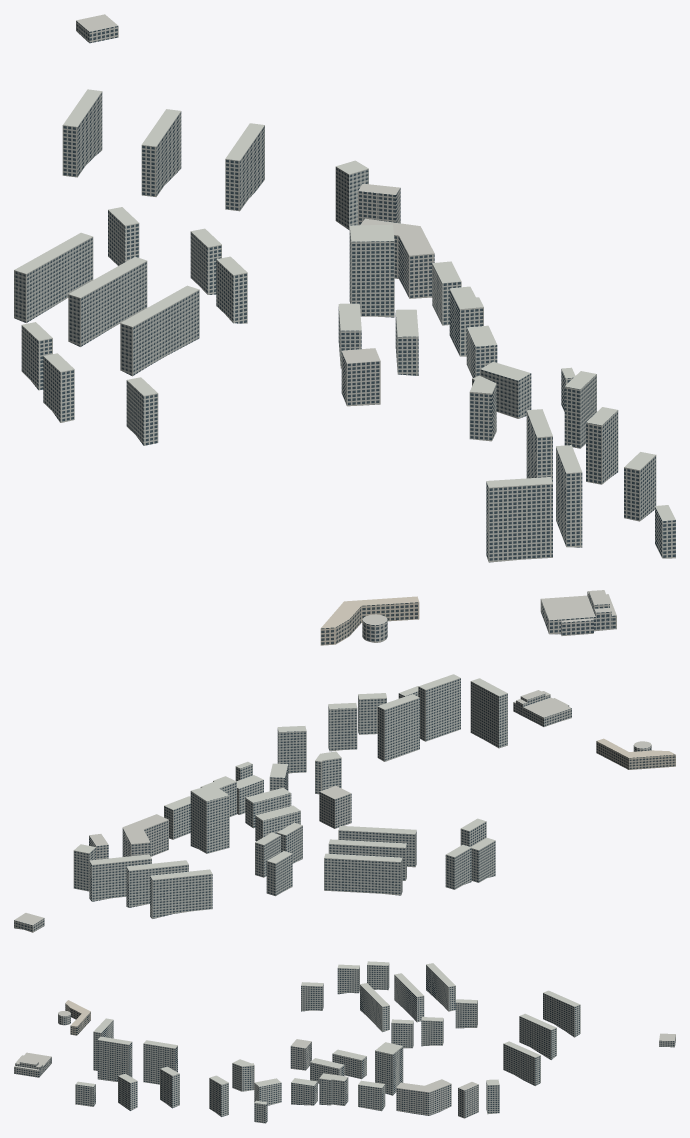
Rendered from city_8_-1.glb.
3 views of the same model, one above another, from view 1: azimuth 30°, elevation 25°; view 2: azimuth 150°, elevation 25°; view 3: azimuth 270°, elevation 25° (orthographic). The views are drawn at different scales.
Bounding box in the file's own units: 398 × 116 × 948.
3 materials, 3 textured.
